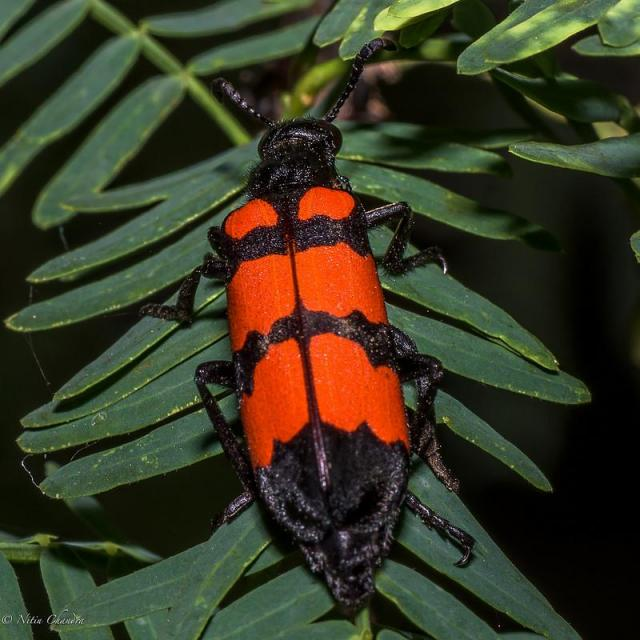BlisterBeetle-Adult-: (138, 34, 486, 618)
